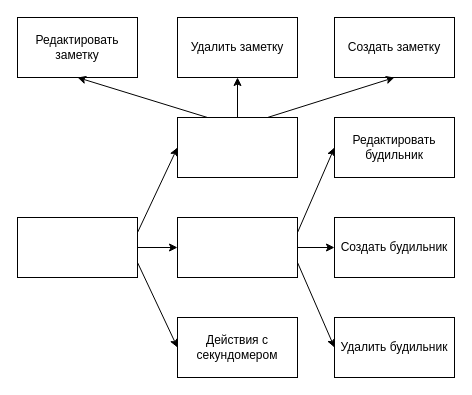
The diagram is 472 pixels wide and 395 high, and some of its shapes have lost their labels. The centre of each missing label's shape, as x and y in pixels:
Действия с будильниками: the point at 237,247
Действия с заметками: the point at 237,147
Меню: the point at 77,247
